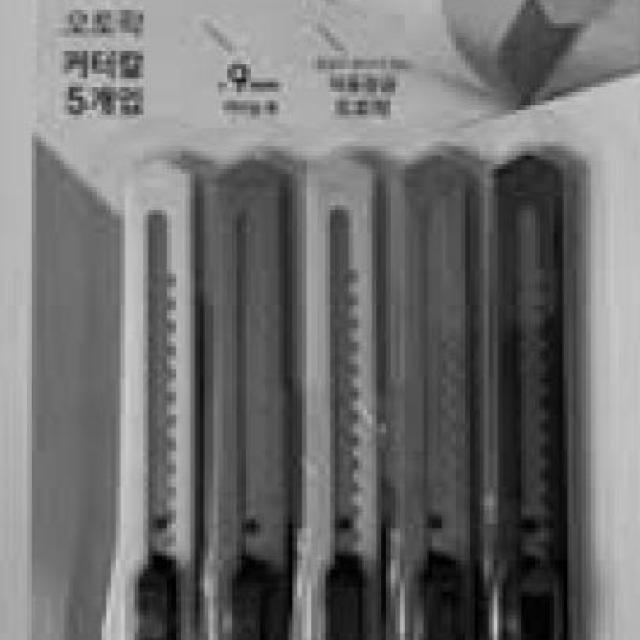estilete: (387, 144, 479, 640), (481, 157, 572, 640), (197, 158, 288, 640), (102, 169, 193, 640), (295, 161, 381, 640)
